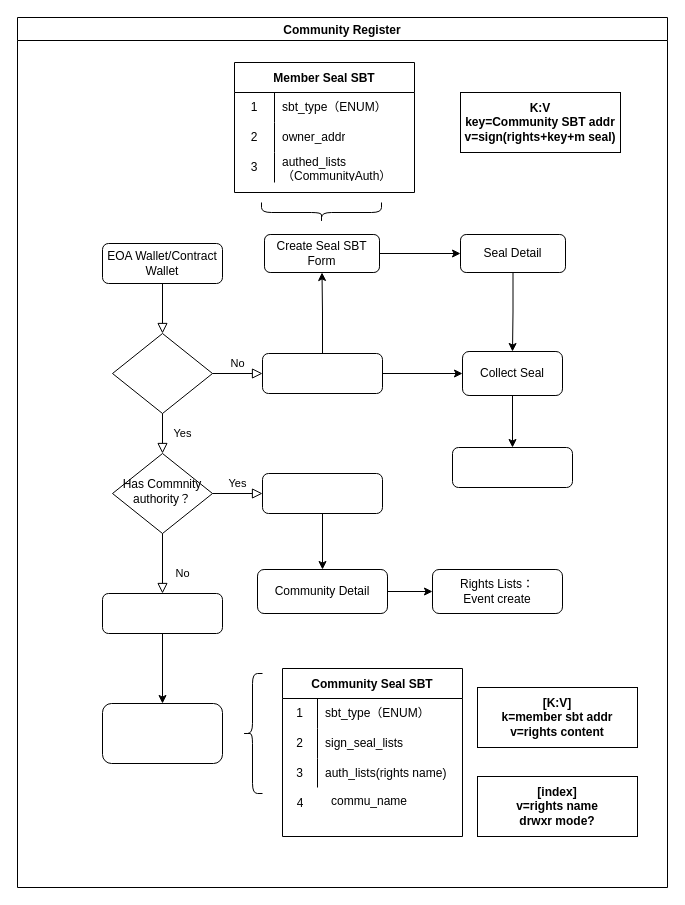
Image size: 685x905. Some labels were removed from this diagram. Here are the shapes that lost their labels. From the top down, the centre of each, then its label:
At point (162, 373): "Exists Seal?".
At point (322, 373): "Create Seal SBT".
At point (512, 467): "Send URLs to members".
At point (322, 493): "Show Community List".
At point (162, 613): "Create a Community".
At point (162, 733): "RegForm".
